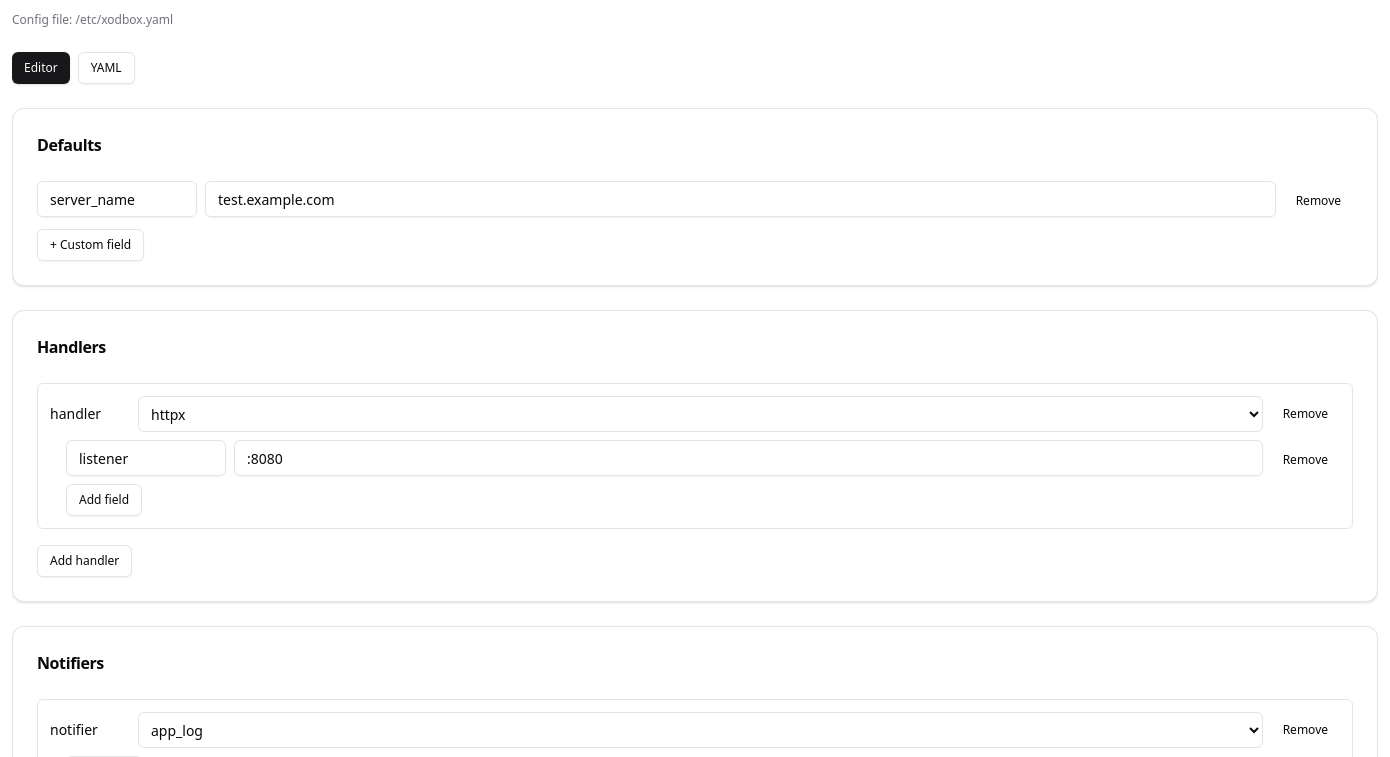
Test case: Config page › switches to YAML tab
The image size is (1390, 757).
Expected: the 1st field showing "server_name" is shown, [37, 181, 197, 217]
Click the button "YAML" at (106, 68), box [78, 52, 135, 84]
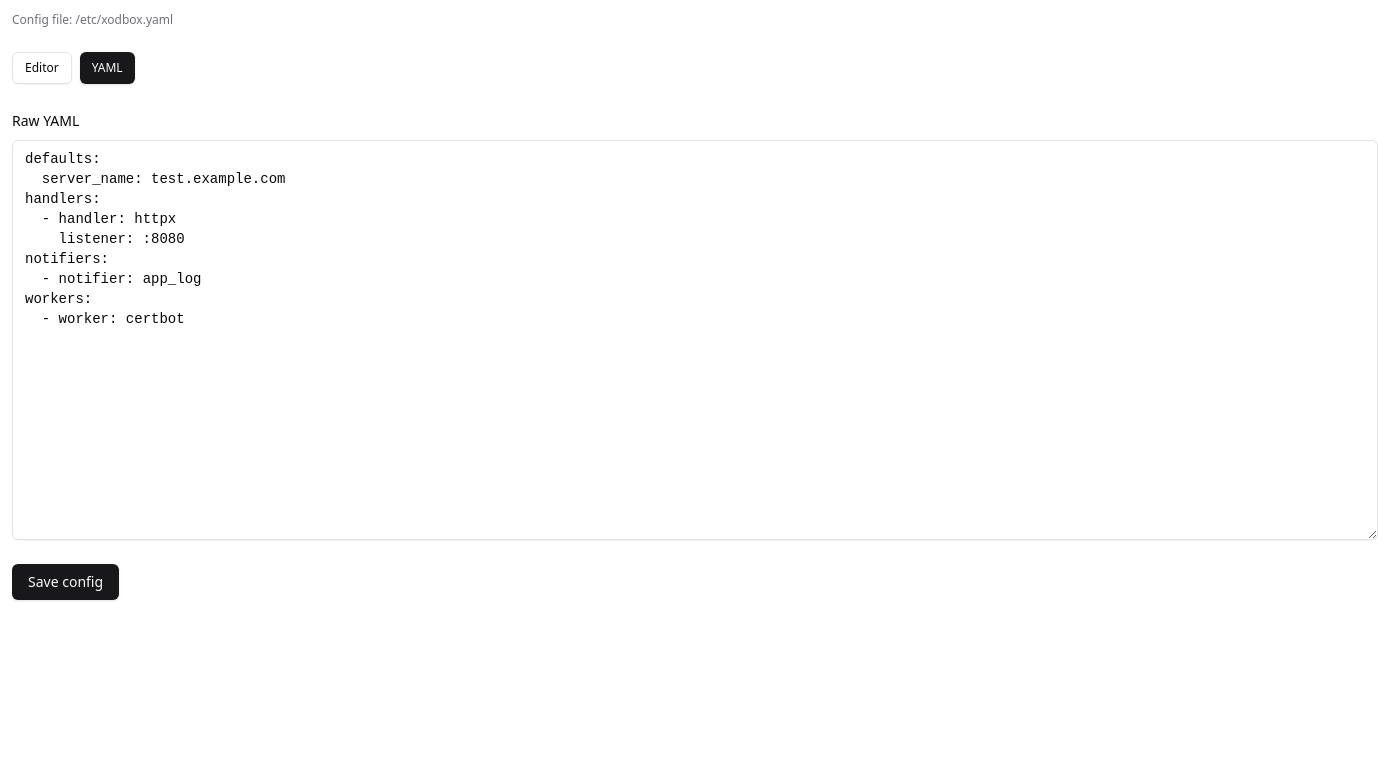
Expected: the text box labelled "Raw YAML" is shown, [12, 140, 1378, 540]
